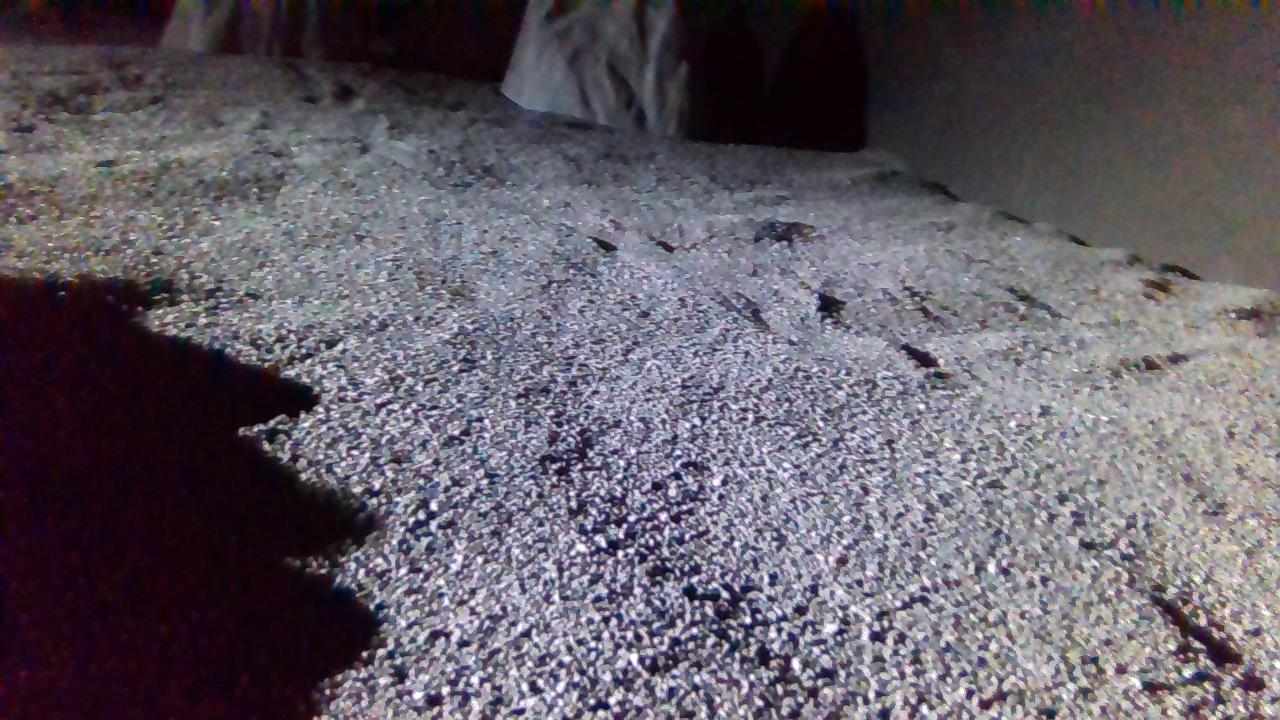rock: (501, 0, 689, 135), (159, 0, 347, 64)
